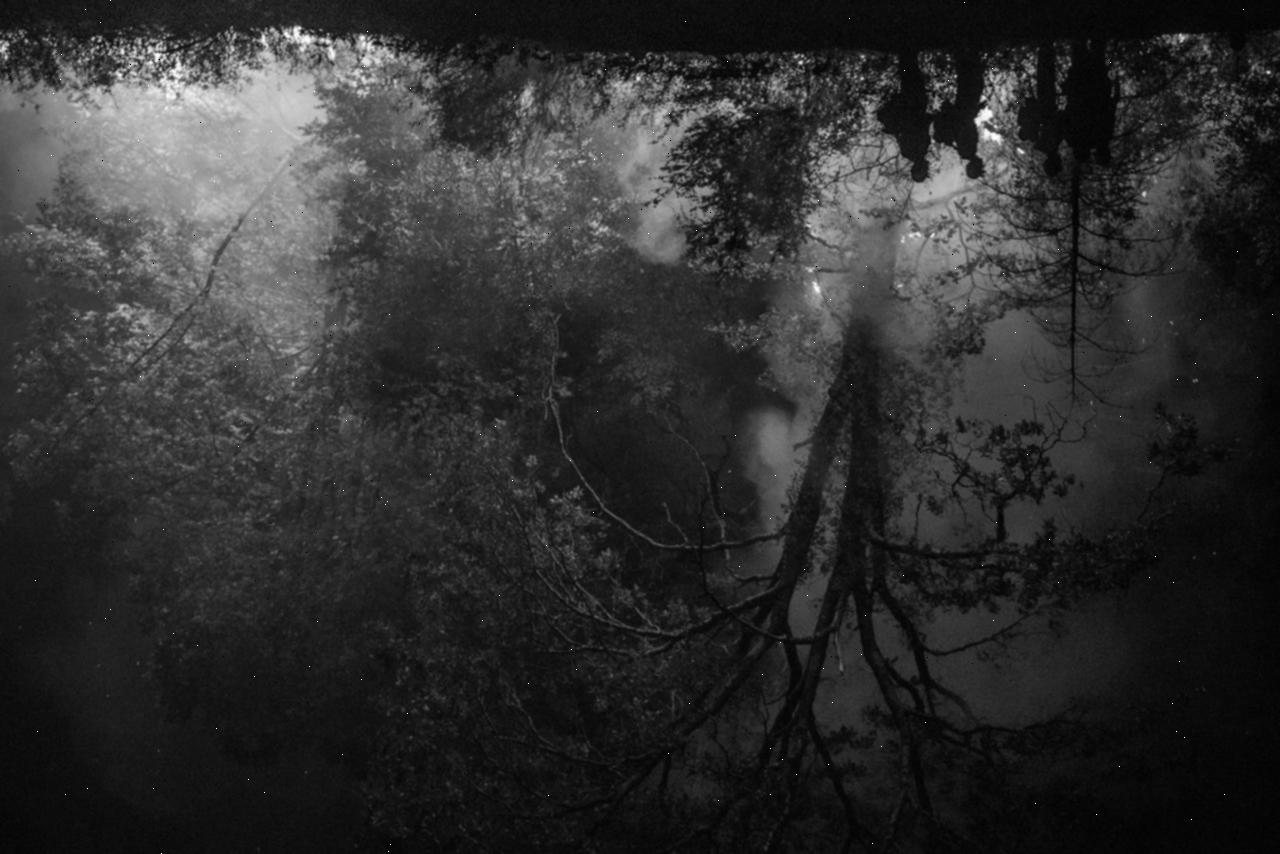fire: (0, 0, 460, 171), (488, 18, 757, 197), (928, 45, 1074, 211)
